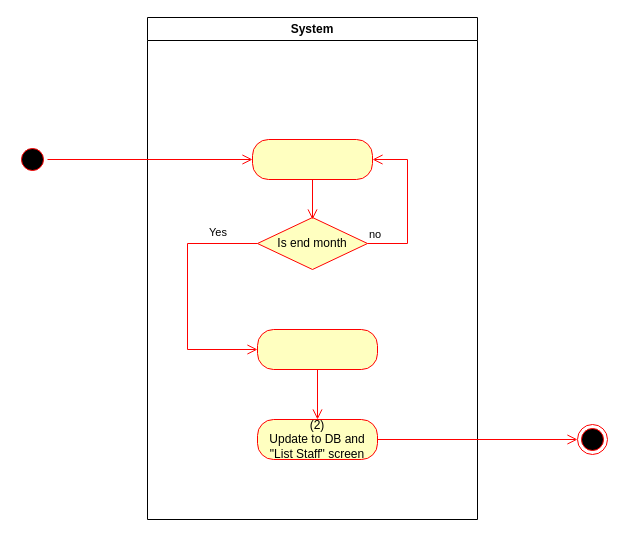
Image size: 625x537. Some labels were removed from this diagram. The centre of each missing label's shape, as x and y in pixels:
"(1) Check date" belongs at (x=312, y=159).
"(1.1) Calculate Salary" belongs at (x=317, y=349).
